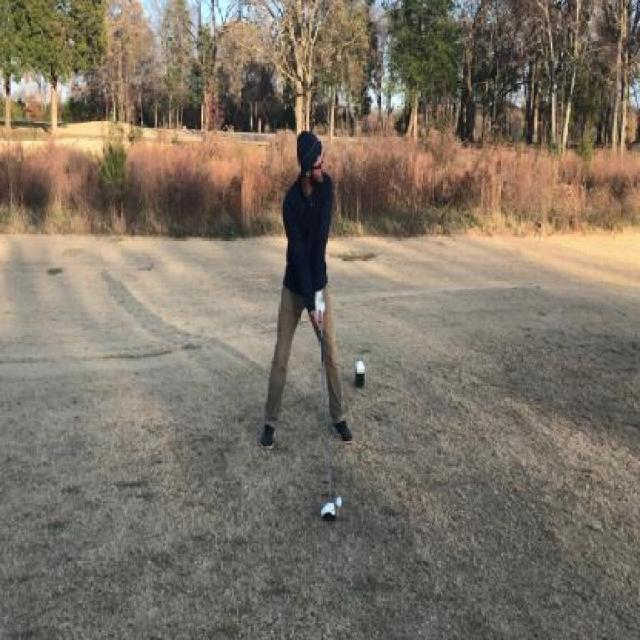club head: (318, 492, 337, 522)
